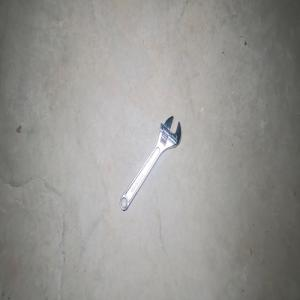Wrench: (119, 115, 181, 211)
